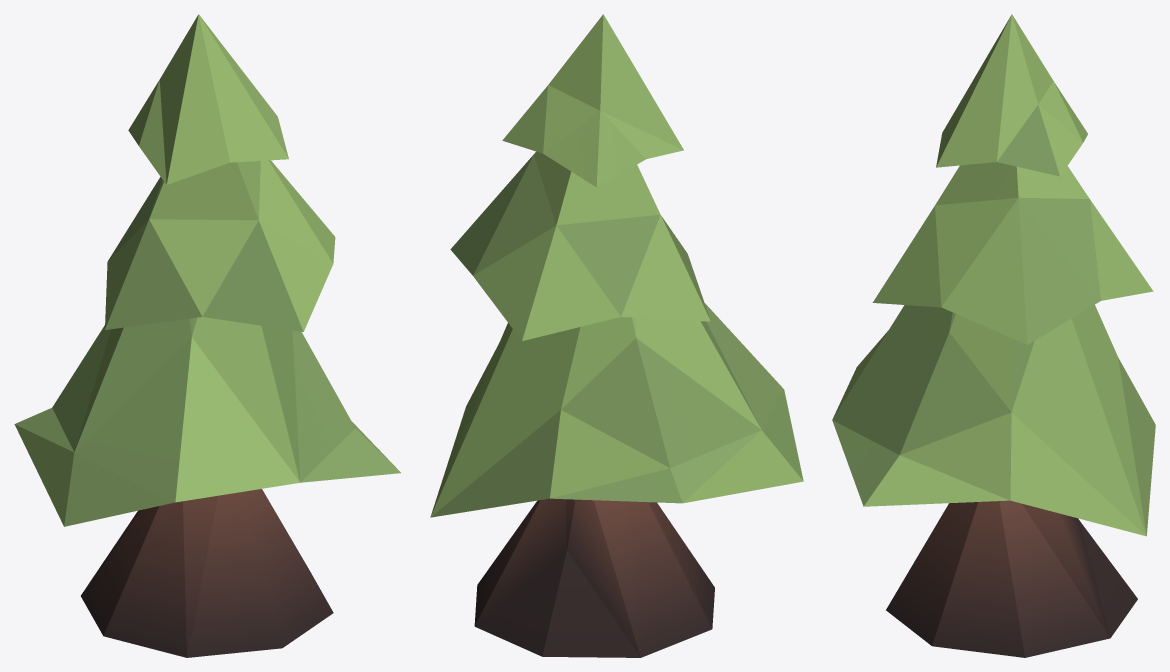
Rendered from pointytree.fbx.
3 views of the same model, side by side, from view 1: azimuth 30°, elevation 25°; view 2: azimuth 150°, elevation 25°; view 3: azimuth 270°, elevation 25° (orthographic).
Visible parts, largest first — view 1: polySurface4; view 2: polySurface4; view 3: polySurface4.
Boxes of the visible parts, left/top/right/bottom form: polySurface4: left=14, top=14, right=400, bottom=657; polySurface4: left=430, top=14, right=803, bottom=657; polySurface4: left=832, top=14, right=1155, bottom=657.
Size of the model in its own units: 30.33 by 55.13 by 27.57.
